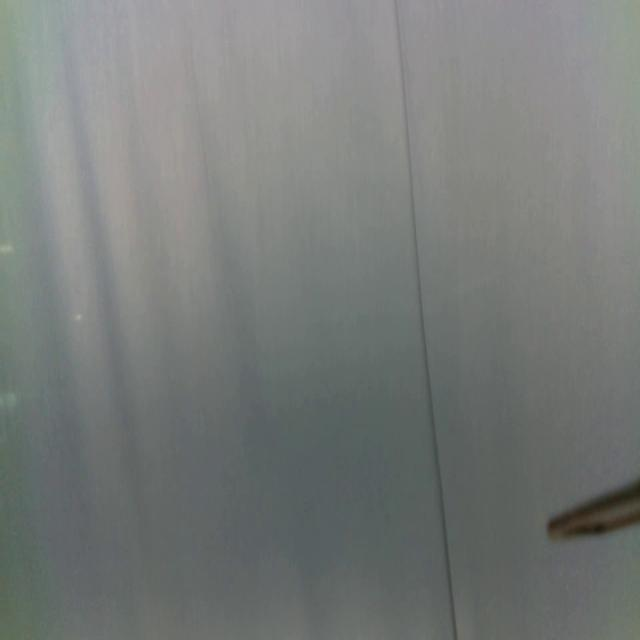crease: (393, 2, 457, 638)
